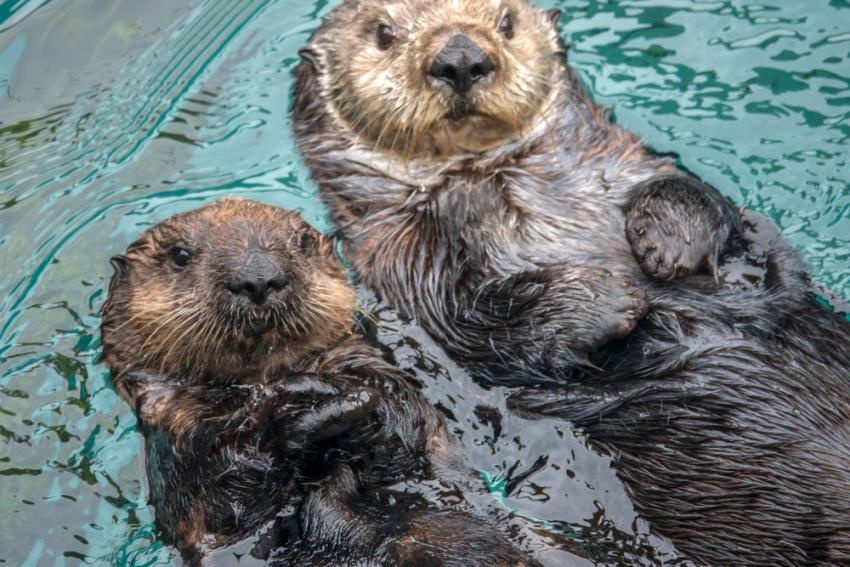otter: (287, 1, 698, 314), (105, 171, 383, 424)
